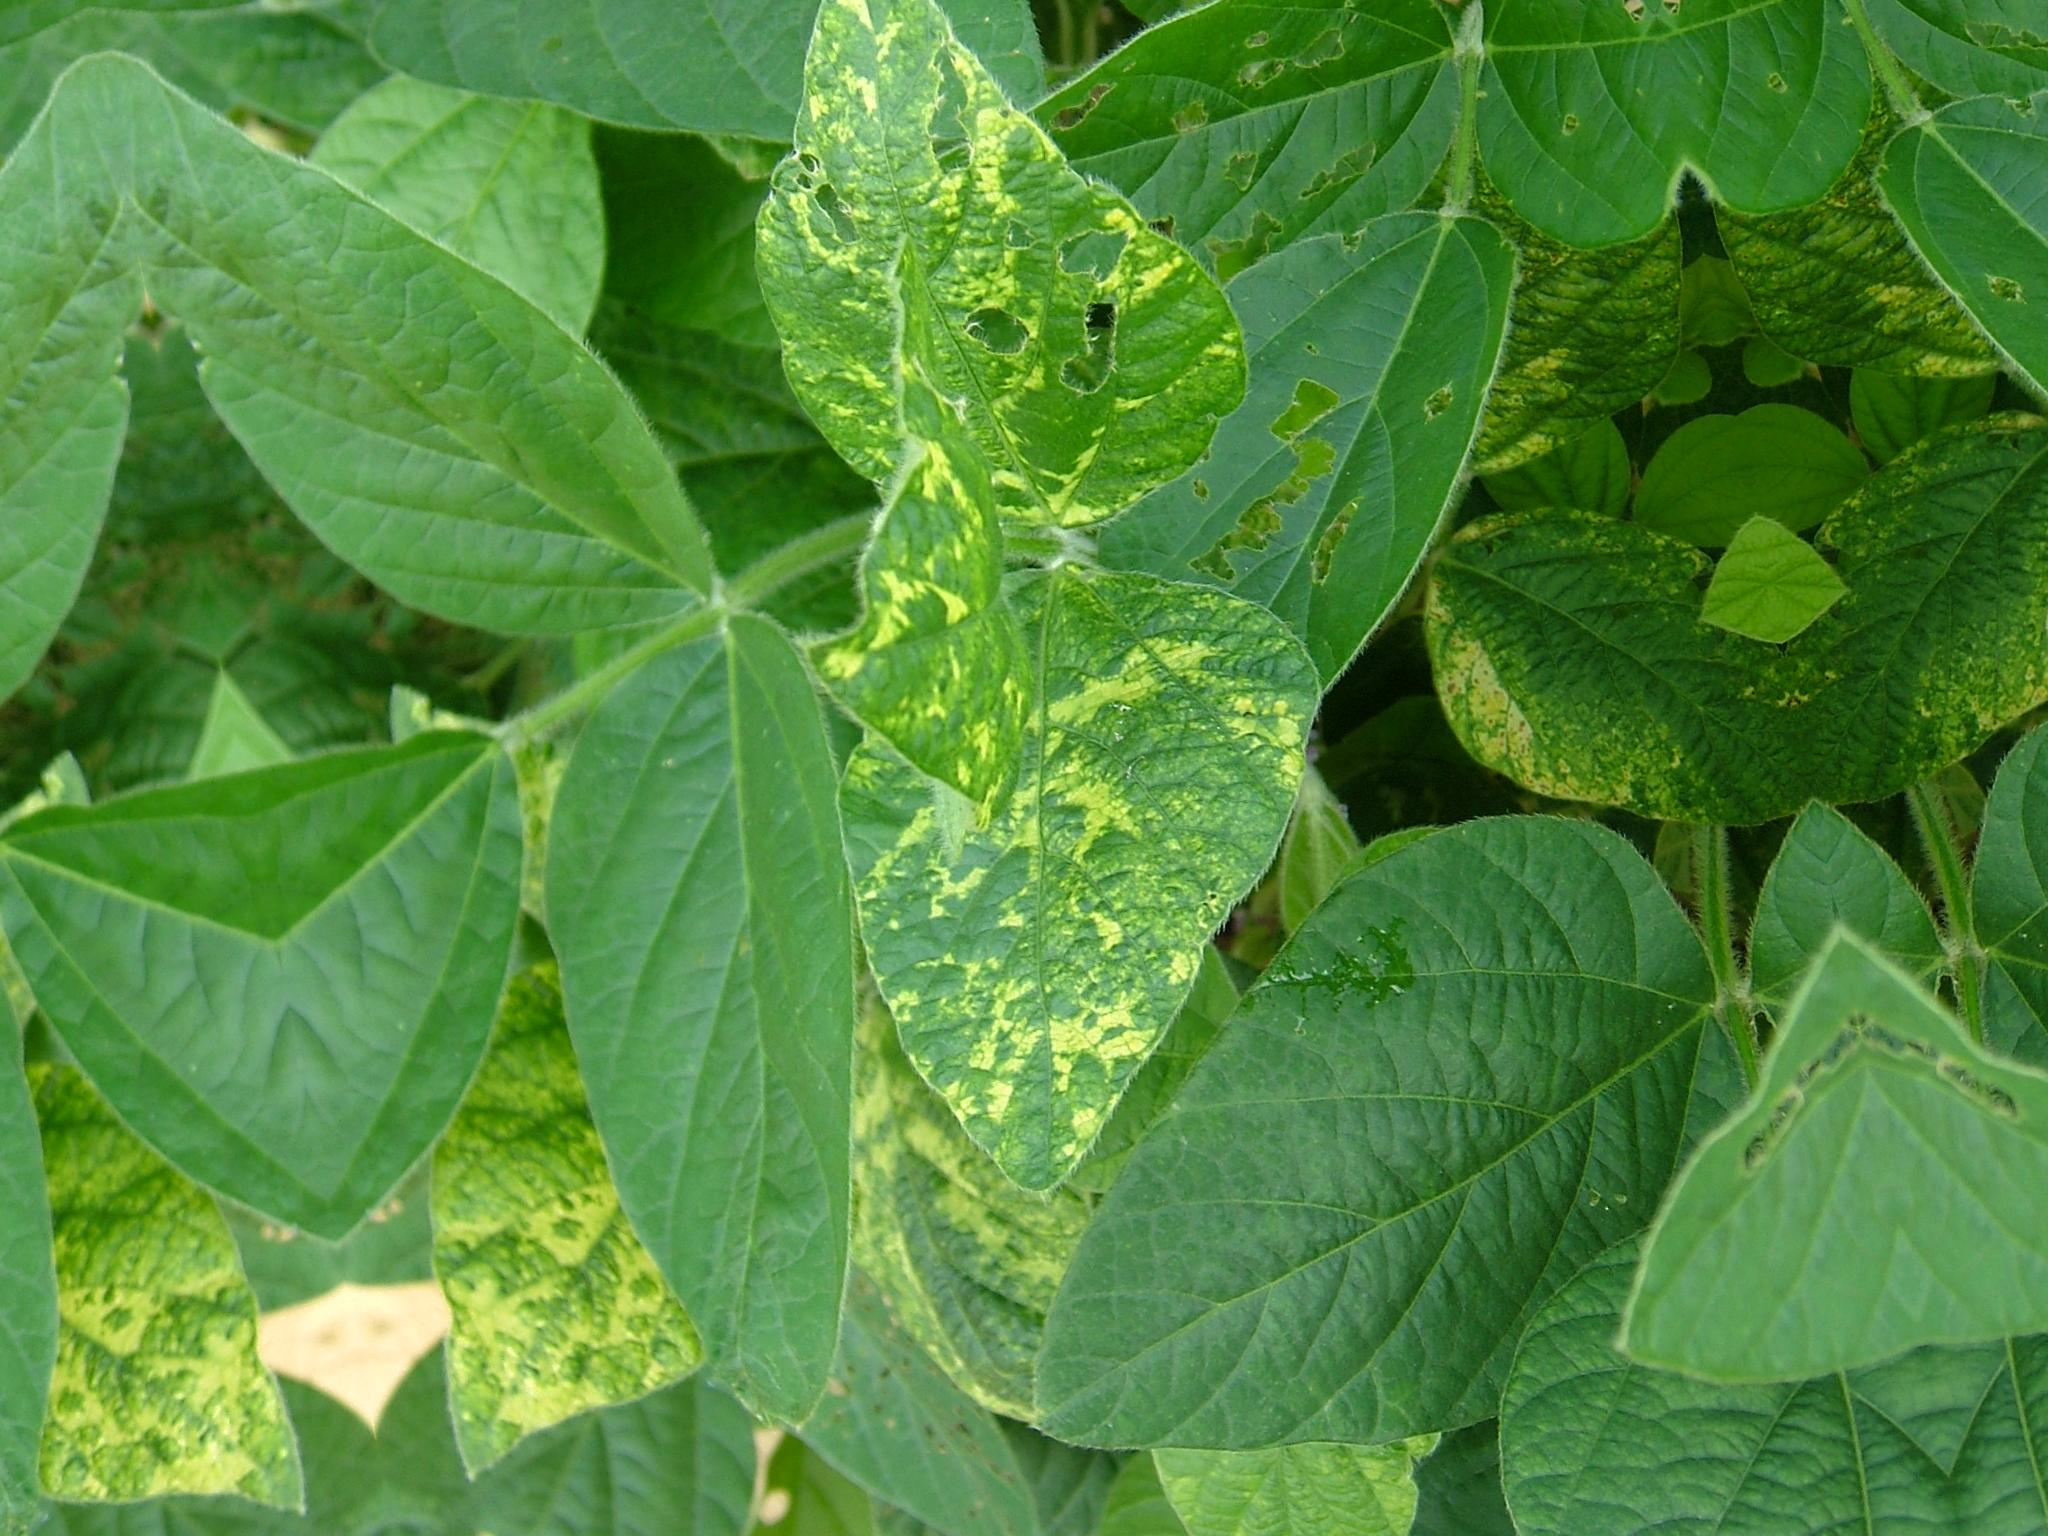Tomato leaf: (482, 600, 959, 1428)
Tomato leaf mosaic virus: (821, 531, 1385, 1183), (669, 0, 1280, 584)
